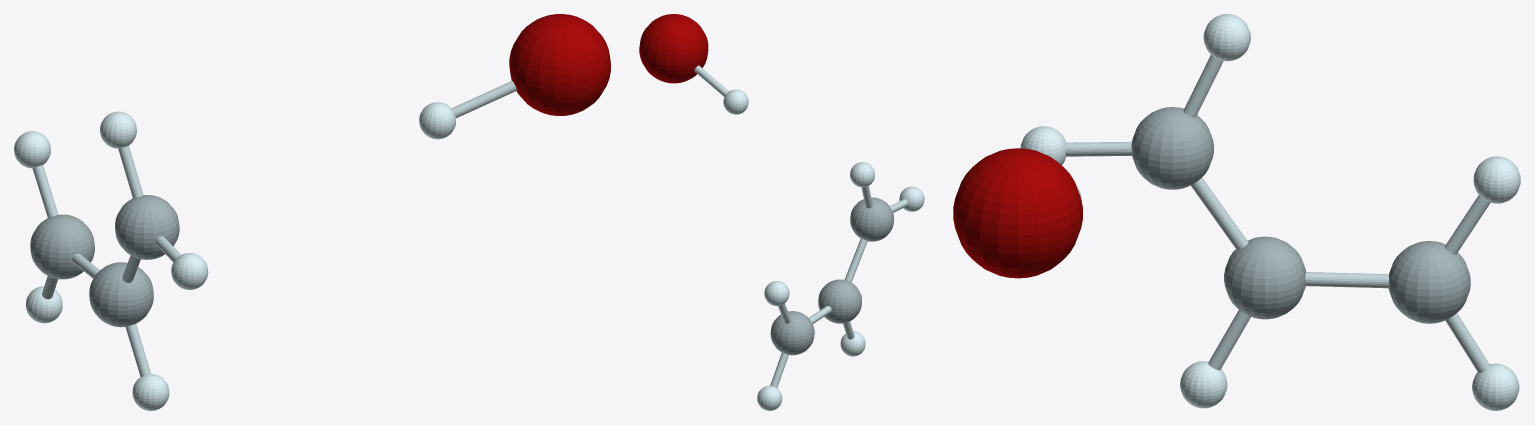
File: irc_step_048.glb
3 renders of one model, left to right at view 1: azimuth 30°, elevation 25°; view 2: azimuth 150°, elevation 25°; view 3: azimuth 270°, elevation 25°, orthographic. The views are drawn at different scales.
Visible parts, largest first — view 1: Renderer Node; view 2: Renderer Node; view 3: Renderer Node.
Part boxes in pixels (box(x1,y1,x2,y2)): Renderer Node: box(14, 14, 610, 410); Renderer Node: box(639, 14, 924, 410); Renderer Node: box(953, 14, 1520, 410).
Size of the model in its own units: 5.27 by 4.29 by 4.79.
